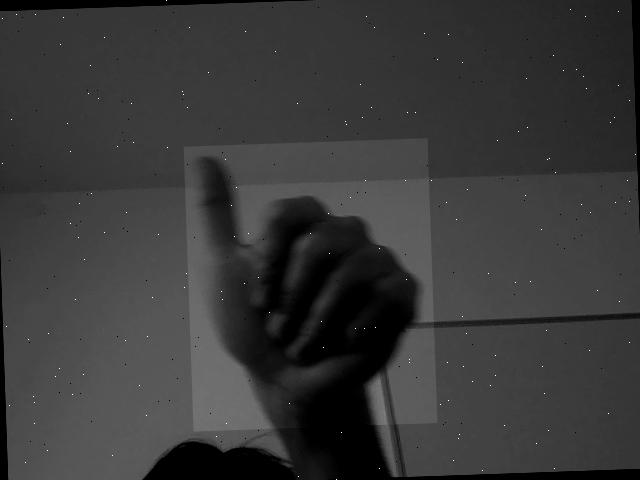good: (185, 146, 434, 426)
